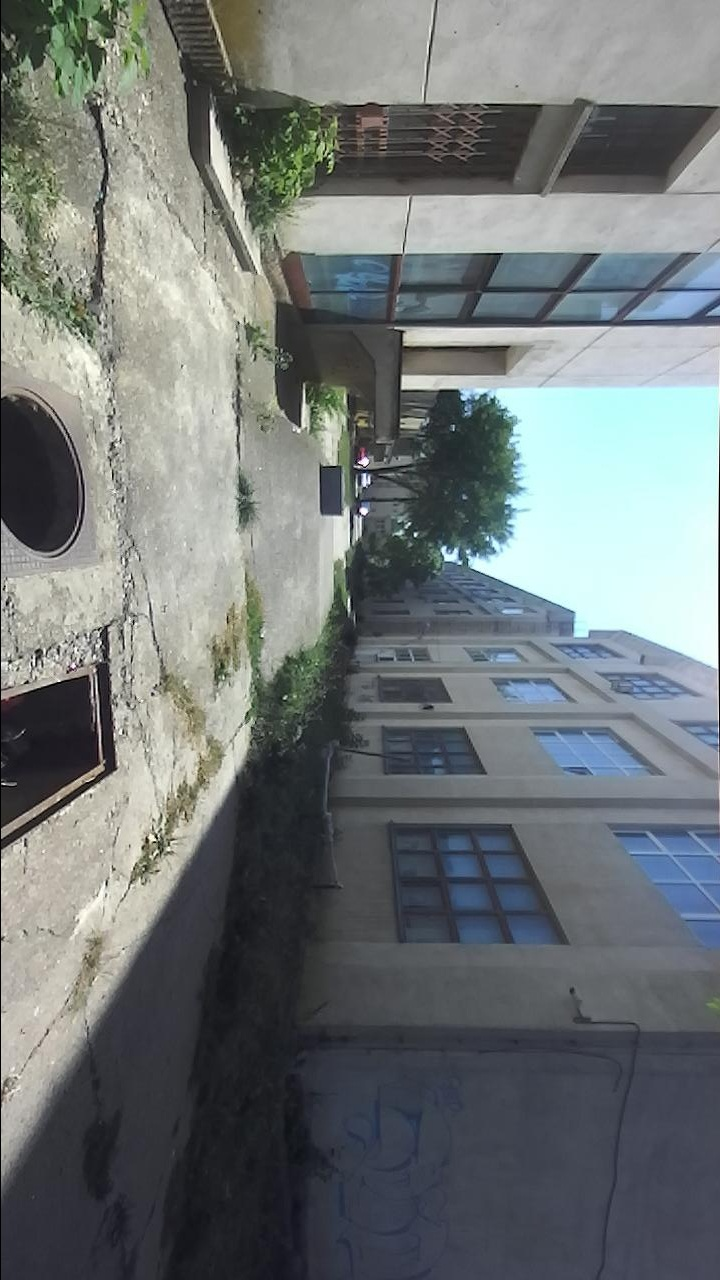drain: (1, 659, 121, 853), (1, 381, 87, 568)
